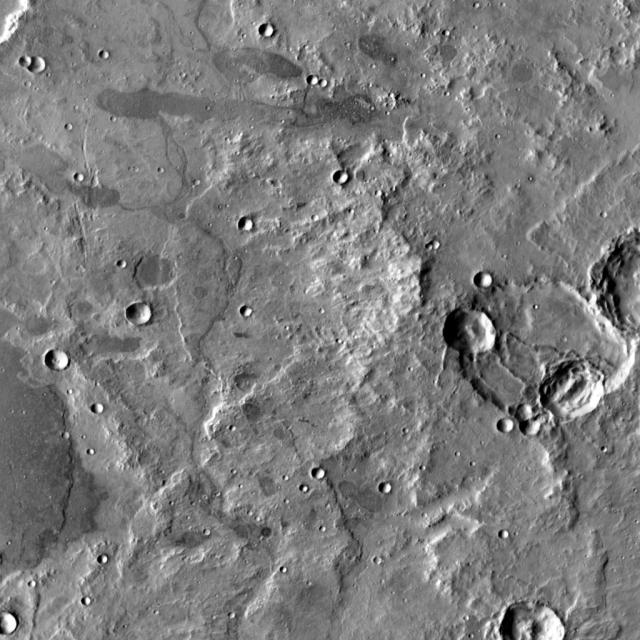crater: (467, 276, 631, 424), (541, 359, 608, 420), (444, 310, 498, 358), (502, 605, 567, 640), (137, 255, 180, 294), (46, 351, 72, 373), (130, 305, 155, 327), (514, 64, 538, 86), (0, 614, 18, 637), (28, 58, 48, 76), (476, 274, 496, 292), (516, 406, 535, 424), (522, 421, 542, 438), (500, 421, 516, 435), (242, 220, 256, 234), (382, 484, 396, 498), (336, 174, 350, 187), (315, 469, 328, 482), (262, 28, 276, 40), (93, 406, 106, 417), (21, 59, 33, 70), (243, 310, 254, 320), (432, 242, 443, 252), (101, 51, 111, 61), (101, 558, 111, 568), (311, 79, 321, 88), (502, 533, 512, 542), (120, 263, 129, 271), (321, 80, 330, 88), (86, 600, 94, 608), (302, 487, 310, 495), (76, 176, 85, 183), (376, 561, 384, 568), (88, 452, 96, 459), (314, 216, 322, 223), (275, 561, 283, 568), (428, 246, 435, 253), (206, 532, 213, 539), (64, 436, 72, 442), (30, 584, 38, 590), (62, 119, 69, 125), (438, 26, 445, 32), (623, 44, 630, 50), (19, 76, 26, 82), (223, 608, 230, 614)
